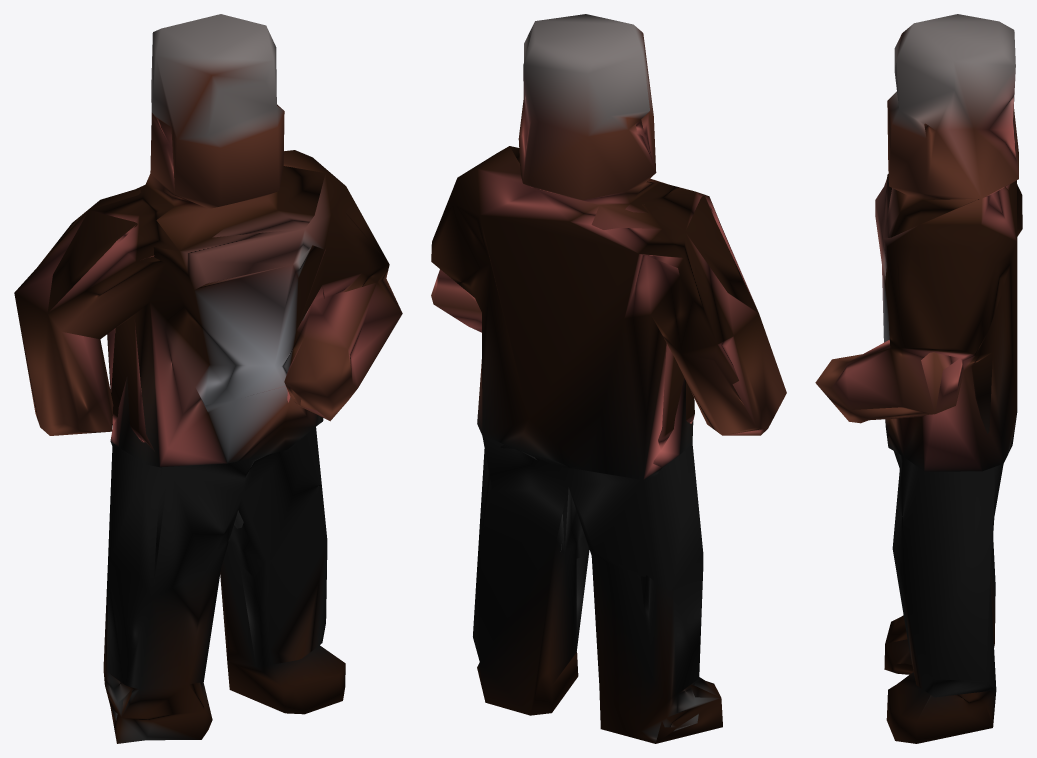
The model's file is gen3d-gang-lod1.glb.
3 views of the same model, side by side, from view 1: azimuth 30°, elevation 25°; view 2: azimuth 150°, elevation 25°; view 3: azimuth 270°, elevation 25° (orthographic). The views are drawn at different scales.
Parts seen in each view (by area): view 1: part_0; view 2: part_0; view 3: part_0.
Boxes of the visible parts, x1,y1,x2,y2 form: part_0: (14, 14, 402, 743); part_0: (431, 14, 786, 743); part_0: (815, 14, 1022, 743).
Size of the model in its own units: 0.5319 by 1 by 0.2854.
